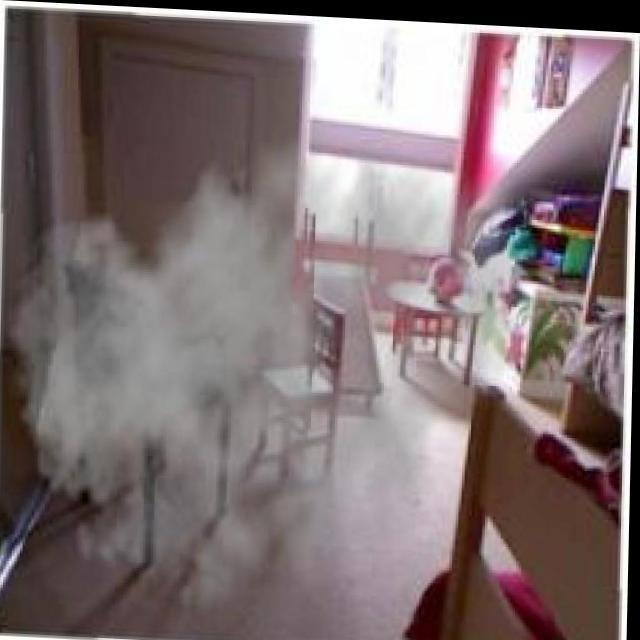Smoke: (3, 152, 466, 614)
